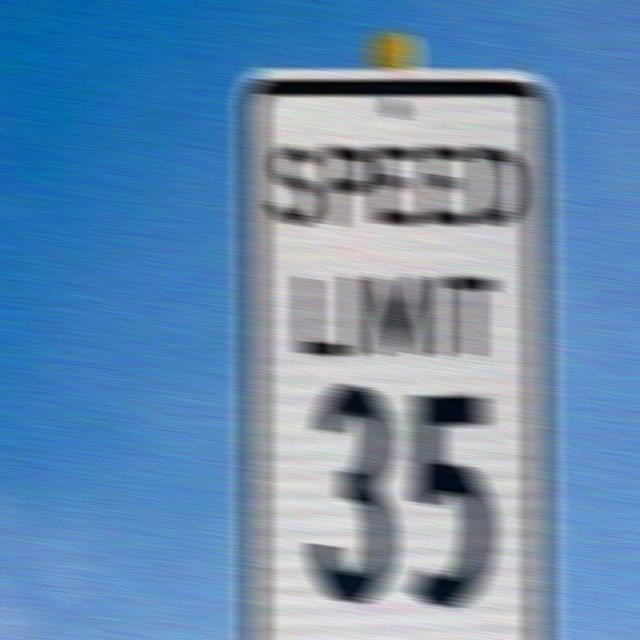speedLimit35: (243, 78, 548, 631)
